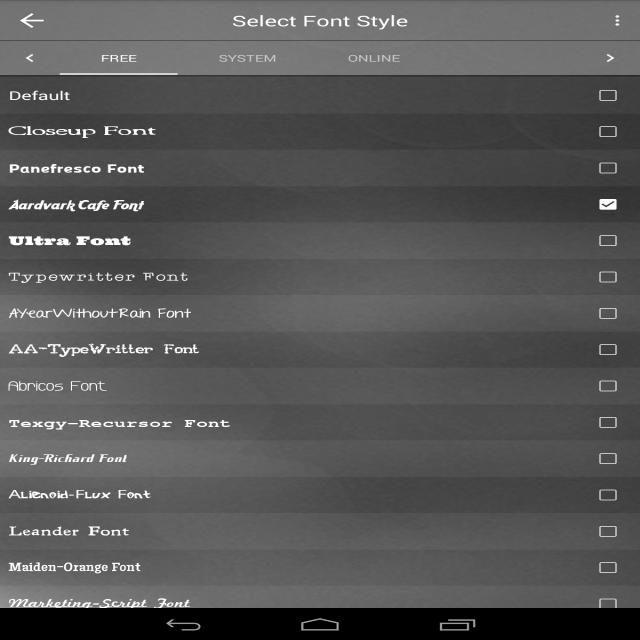CheckBox: (595, 88, 621, 104), (595, 124, 621, 140), (595, 160, 621, 176), (595, 196, 621, 212), (595, 232, 621, 248), (595, 269, 621, 285), (595, 306, 621, 322), (595, 342, 621, 358), (595, 378, 621, 394), (595, 414, 621, 430), (595, 487, 621, 503), (595, 524, 621, 540), (595, 560, 621, 576), (595, 596, 621, 612), (595, 451, 621, 466)
ImageButton: (0, 41, 60, 75), (580, 41, 640, 75), (5, 4, 59, 37), (600, 10, 634, 31)
ImageView: (178, 73, 317, 75), (59, 73, 178, 75), (317, 73, 431, 75)
TextView: (178, 41, 317, 75), (59, 41, 178, 75), (317, 41, 431, 75), (8, 414, 232, 431), (232, 11, 408, 30), (8, 305, 191, 321), (8, 596, 190, 612), (8, 342, 200, 357), (8, 270, 190, 284), (9, 159, 144, 177), (9, 197, 144, 212), (8, 560, 141, 575), (9, 524, 130, 540), (8, 125, 156, 138), (9, 233, 130, 248), (8, 378, 108, 394), (8, 452, 126, 465), (8, 490, 151, 500), (8, 87, 70, 103)
